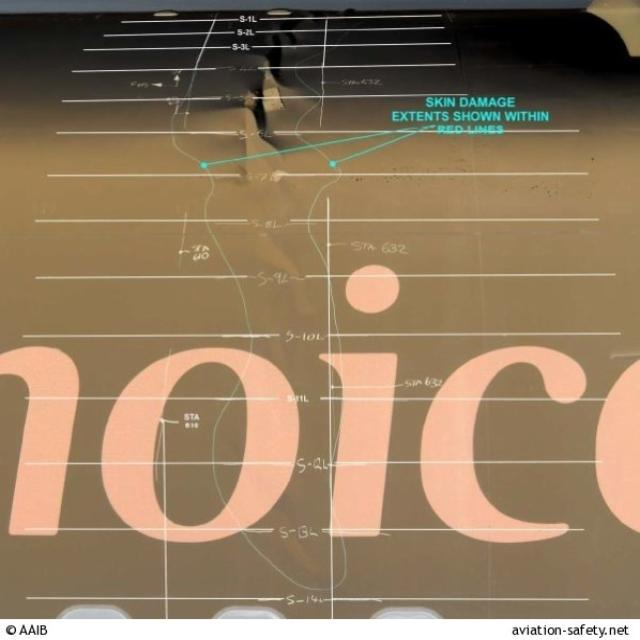dent: (190, 17, 330, 580)
